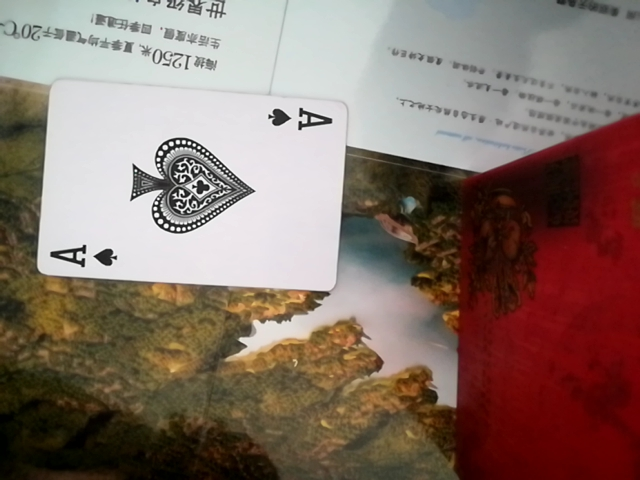ht a: (28, 85, 355, 291)
